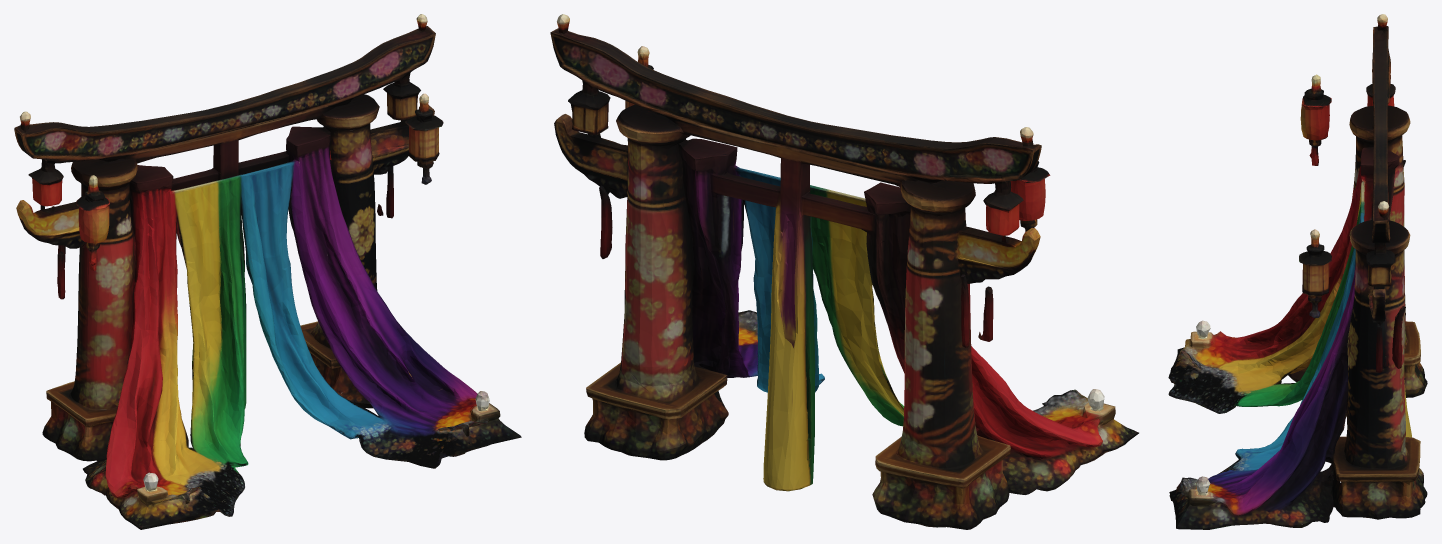
Rendered from artchirihama.glb.
3 renders of one model, left to right at view 1: azimuth 30°, elevation 25°; view 2: azimuth 150°, elevation 25°; view 3: azimuth 270°, elevation 25°, orthographic. The views are drawn at different scales.
Visible parts, largest first — view 1: world; view 2: world; view 3: world.
Part boxes in pixels (x1,y1,x2,y2): world: [14, 14, 521, 529]; world: [550, 14, 1138, 529]; world: [1168, 14, 1427, 529].
Bounding box in the file's own units: 0.9989 × 0.8091 × 0.5594.
1 material, 1 textured.
